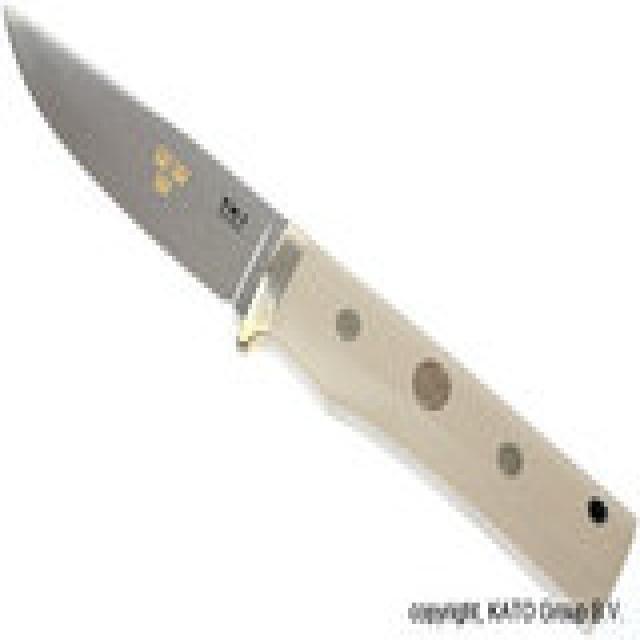Knife: (4, 0, 636, 619)
